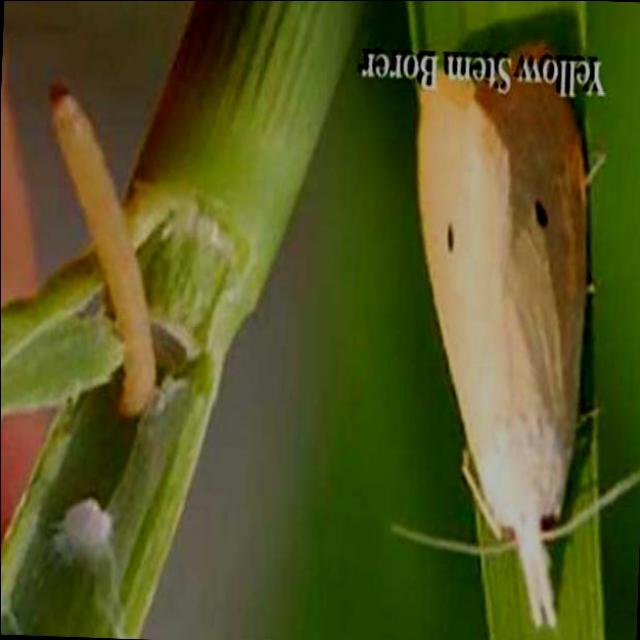stem borer: (394, 45, 637, 627), (51, 88, 155, 417)
